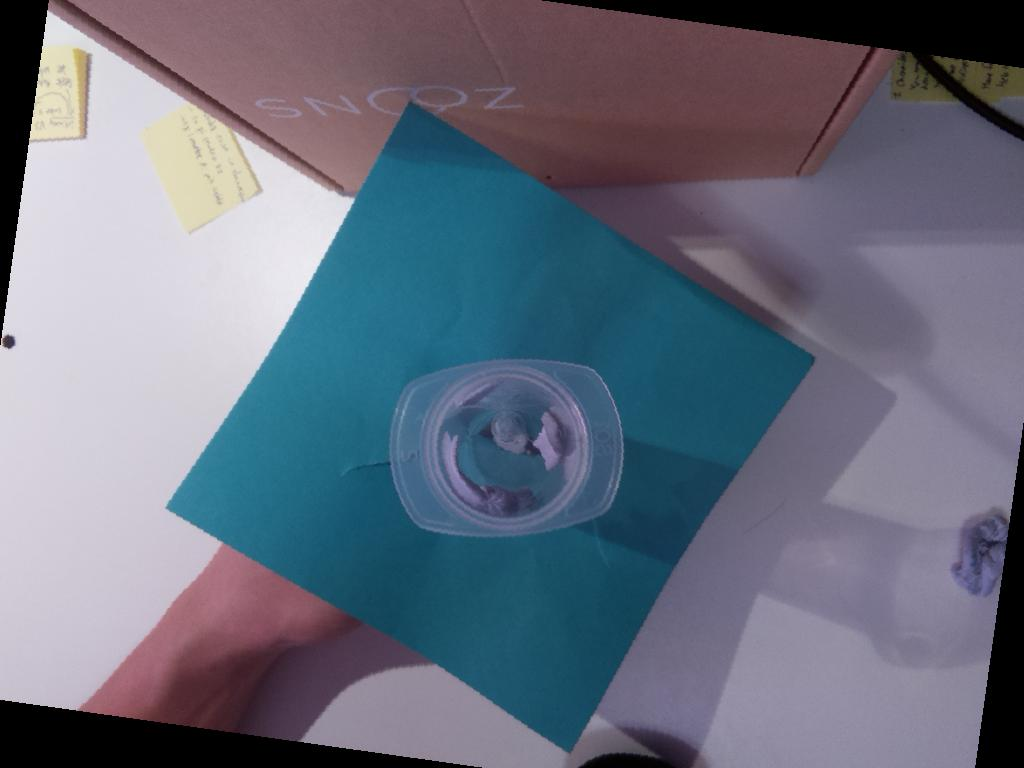dirty: (390, 356, 628, 537)
